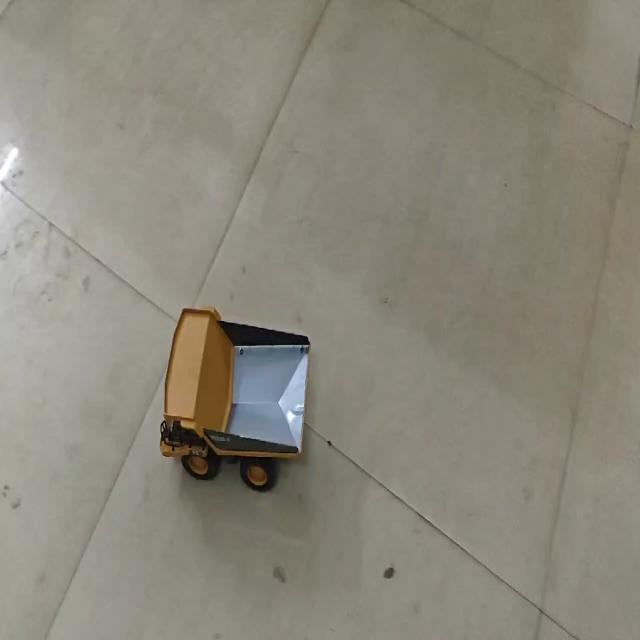dump_truck: (154, 279, 320, 482)
